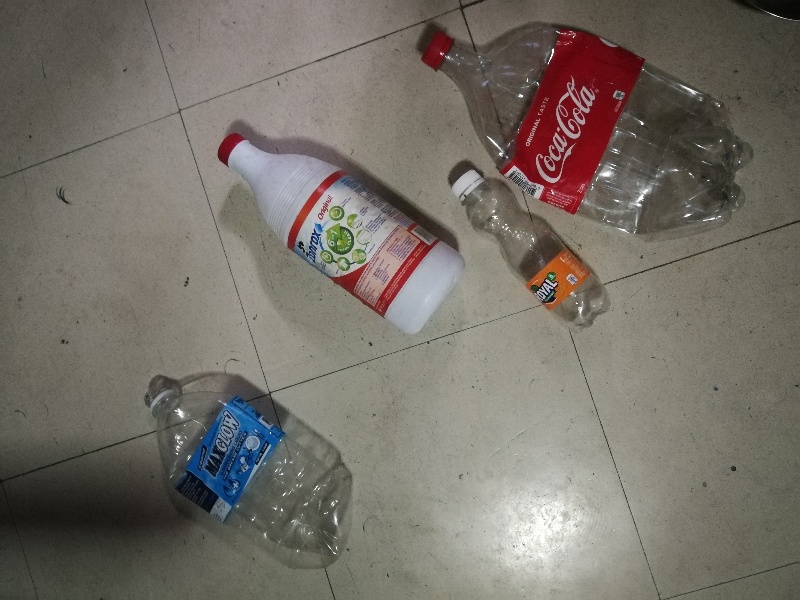HDPE #2: (206, 122, 461, 343)
PET #1: (417, 29, 751, 248), (135, 385, 357, 555), (445, 164, 610, 337)
